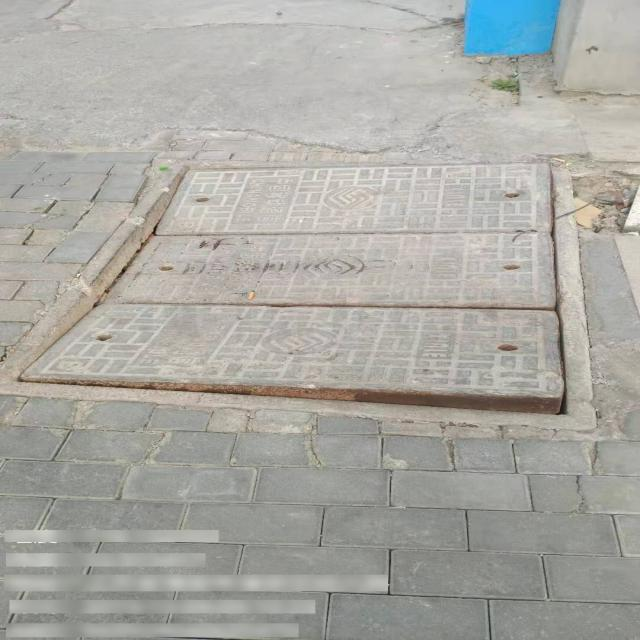Lose: (12, 158, 598, 429)
